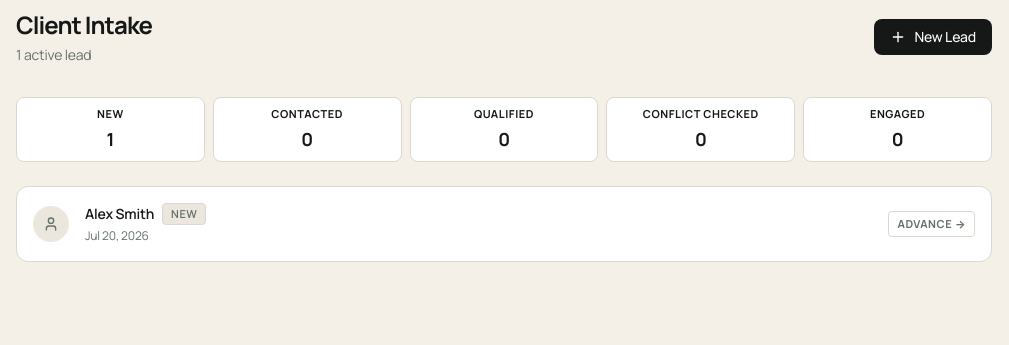
Test case: IntakePage matter conversion › surfaces a failed lead stage update
Click the button "Advance →" at (932, 224), box [888,210,975,237]
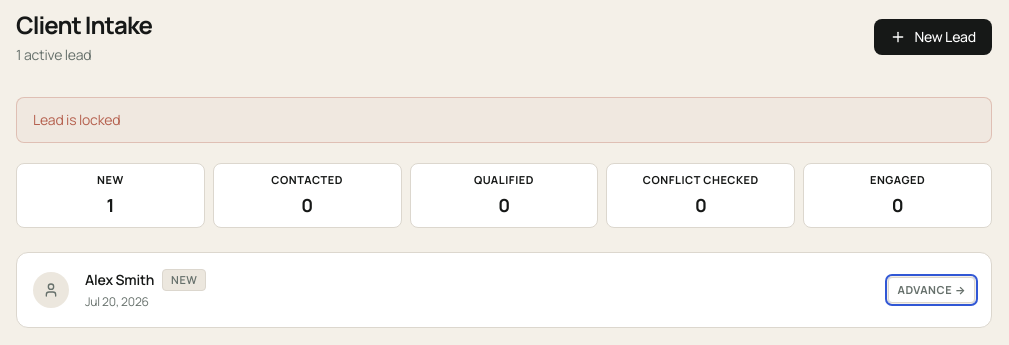
Now the message reads "Lead is locked", box [33,110,120,129]
